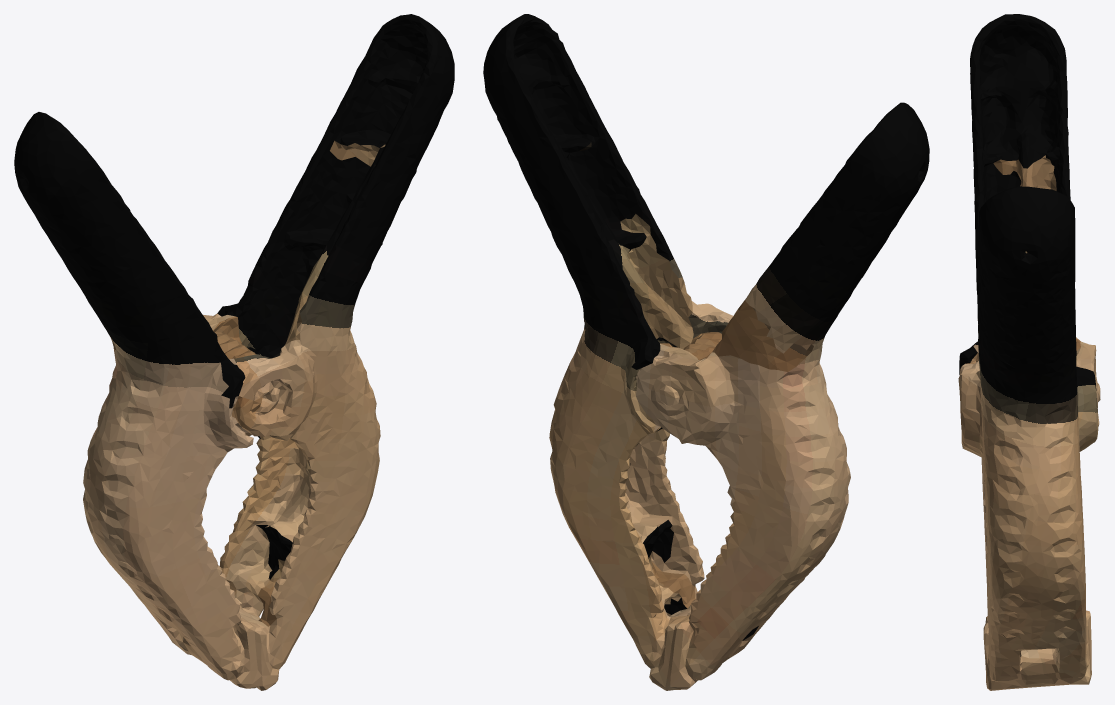
3 renders of one model, left to right at view 1: azimuth 30°, elevation 25°; view 2: azimuth 150°, elevation 25°; view 3: azimuth 270°, elevation 25°, orthographic. The views are drawn at different scales.
Size of the model in its own units: 0.1216 by 0.1654 by 0.0365.
